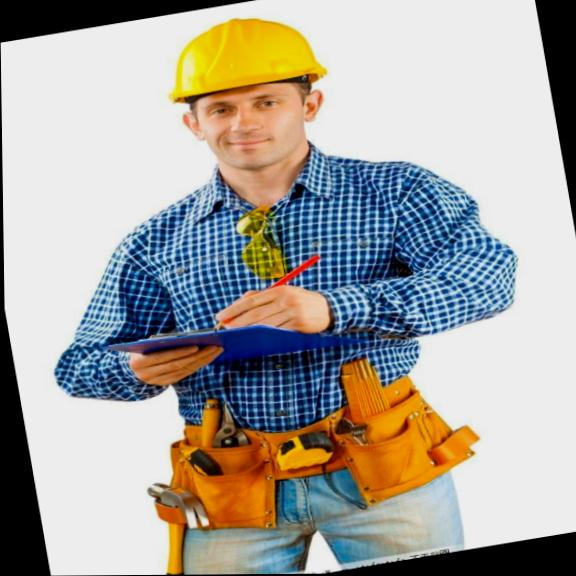no_safety_vest: (81, 144, 470, 465)
